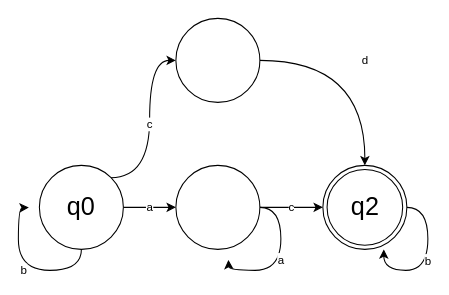
Image size: 449x295. Some labels were removed from this diagram. Here are the shapes that lost their labels. From the top down, the centre of each, then its label:
At (x=217, y=59): "q3".
At (x=217, y=206): "q1".
